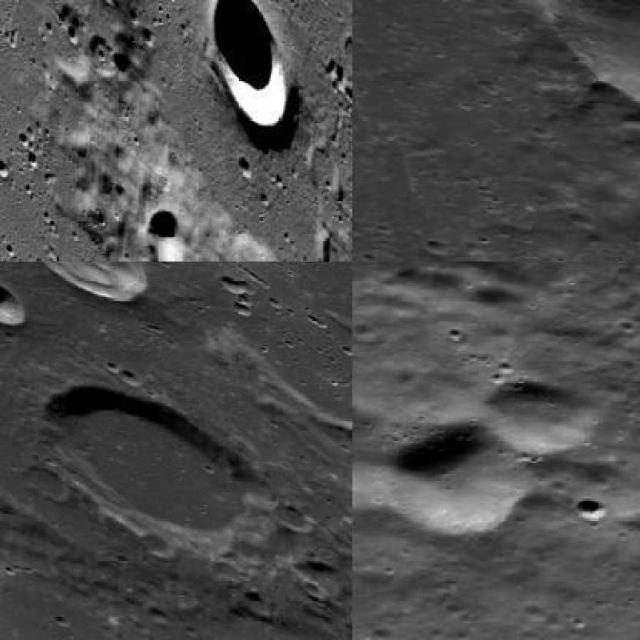crater: (44, 386, 253, 543), (391, 424, 526, 536), (546, 0, 640, 135), (208, 0, 286, 128), (486, 384, 594, 456), (22, 262, 149, 303), (354, 403, 392, 515), (142, 209, 186, 260), (2, 272, 29, 330), (574, 499, 608, 523)
